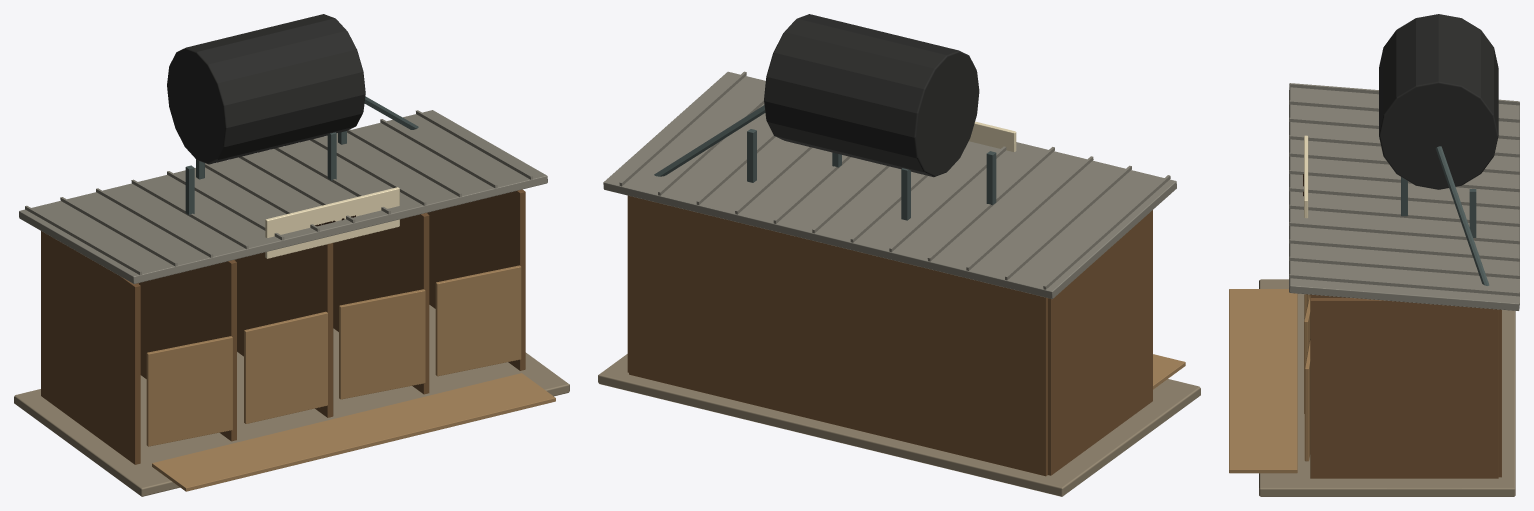
File: ShowerBlock.glb
3 renders of one model, left to right at view 1: azimuth 30°, elevation 25°; view 2: azimuth 150°, elevation 25°; view 3: azimuth 270°, elevation 25°, orthographic. The views are drawn at different scales.
Parts seen in each view (by area): view 1: ShowerBlock.001; view 2: ShowerBlock.001; view 3: ShowerBlock.001.
Part boxes in pixels (bbox=[...]): ShowerBlock.001: bbox=[14, 14, 569, 496]; ShowerBlock.001: bbox=[598, 14, 1200, 496]; ShowerBlock.001: bbox=[1229, 14, 1519, 496].
Bounding box in the file's own units: 5.8 × 4.45 × 3.4.
